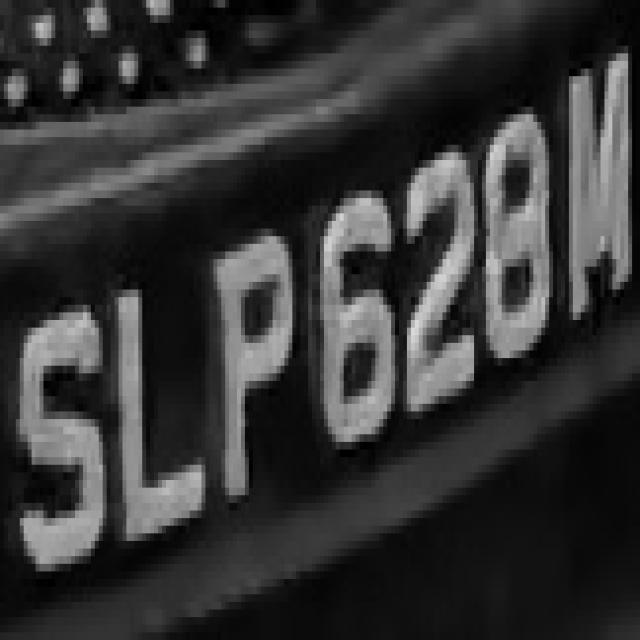2: (391, 137, 490, 442)
6: (308, 152, 407, 472)
8: (470, 92, 561, 388)
L: (114, 266, 206, 586)
M: (561, 30, 632, 343)
P: (206, 229, 304, 541)
S: (15, 274, 106, 579)
